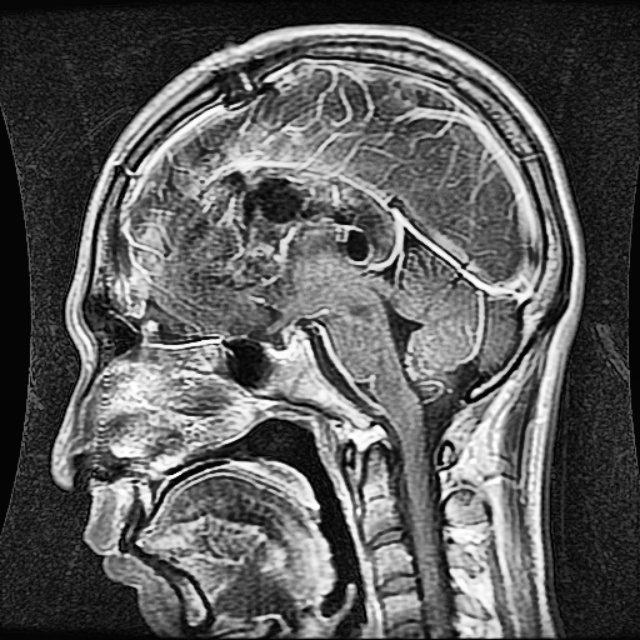Meningioma: (218, 165, 375, 265)
